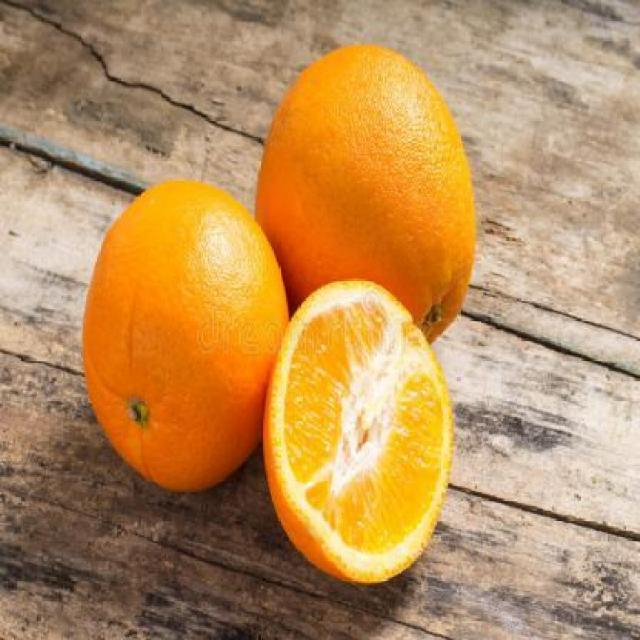Jeruk Sudah Matang: (255, 45, 476, 367), (82, 180, 290, 494)
